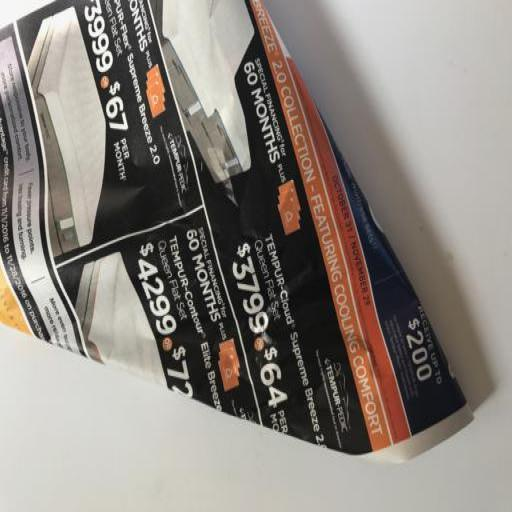paper: (0, 0, 473, 465)
